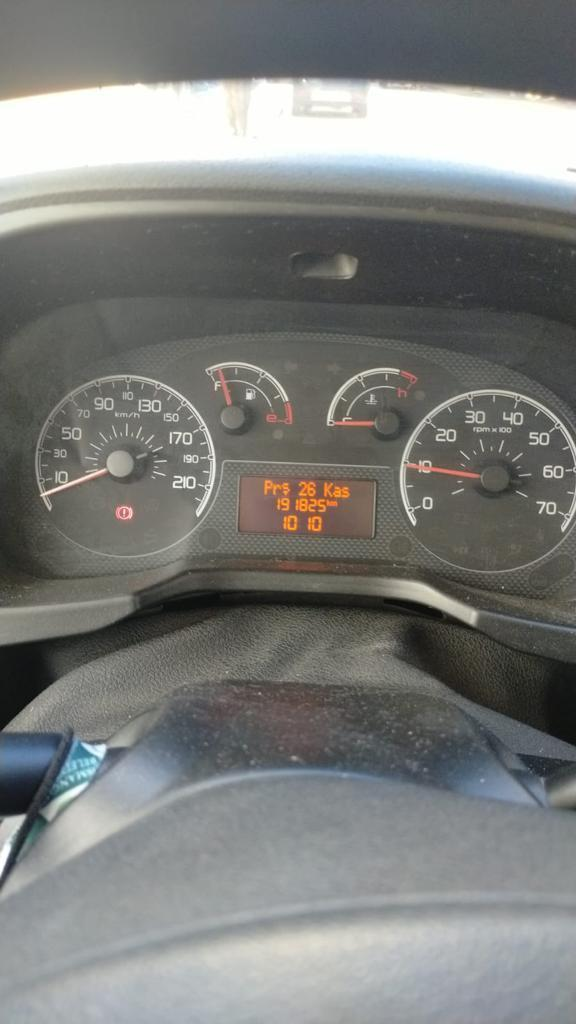0: (311, 515, 322, 531), (287, 514, 297, 530)
1: (282, 515, 287, 530), (307, 516, 311, 530), (276, 497, 280, 510), (295, 499, 299, 511)
2: (297, 481, 307, 496), (308, 498, 317, 512)
5: (317, 499, 326, 512)
6: (307, 482, 316, 496)
8: (299, 498, 307, 511)
9: (280, 497, 290, 511)
X: (323, 482, 333, 497), (263, 479, 272, 495), (271, 483, 281, 495), (281, 482, 290, 495), (341, 486, 350, 498), (332, 486, 341, 497)
odometer: (235, 474, 377, 539)
